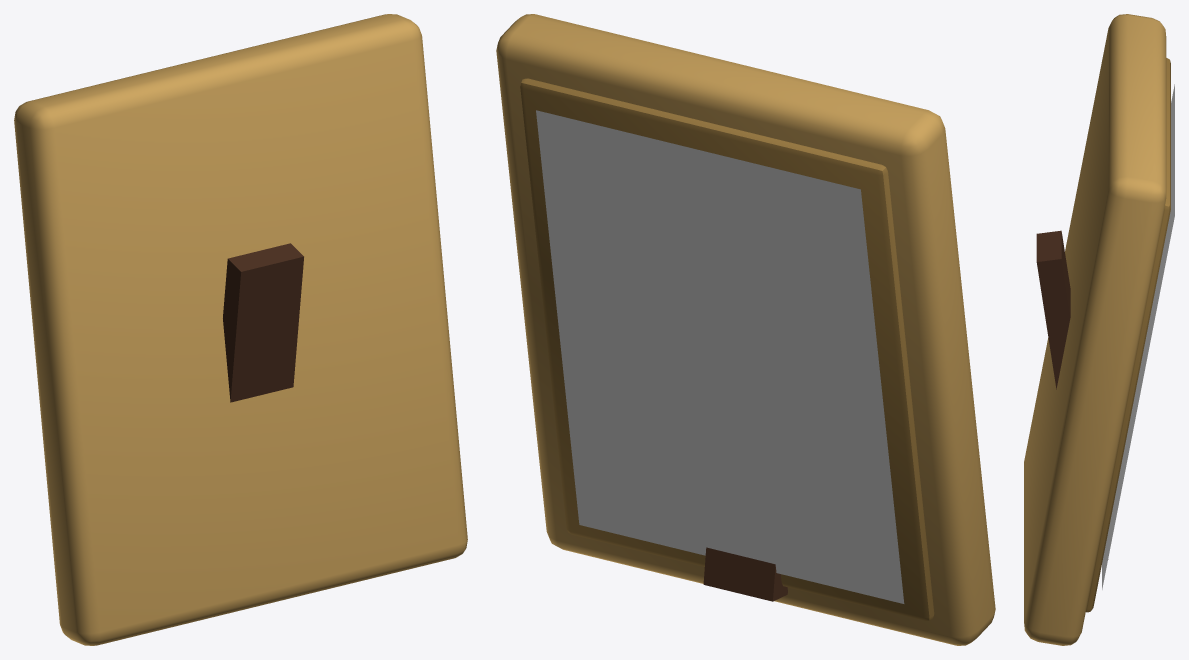
The model's file is Frame_Small.fbx.
The picture shows the model from 3 angles, left to right: view 1: azimuth 30°, elevation 25°; view 2: azimuth 150°, elevation 25°; view 3: azimuth 270°, elevation 25°; orthographic projection. The views are drawn at different scales.
Parts seen in each view (by area): view 1: Frame_Small; view 2: PHOTO, Frame_Small; view 3: Frame_Small, PHOTO.
Part boxes in pixels (x1,y1,x2,y2): Frame_Small: (14, 14, 467, 645); PHOTO: (536, 110, 904, 603); Frame_Small: (496, 14, 995, 645); Frame_Small: (1024, 14, 1170, 645); PHOTO: (1102, 84, 1174, 589).
Size of the model in its own units: 0.099 by 0.1232 by 0.036.
